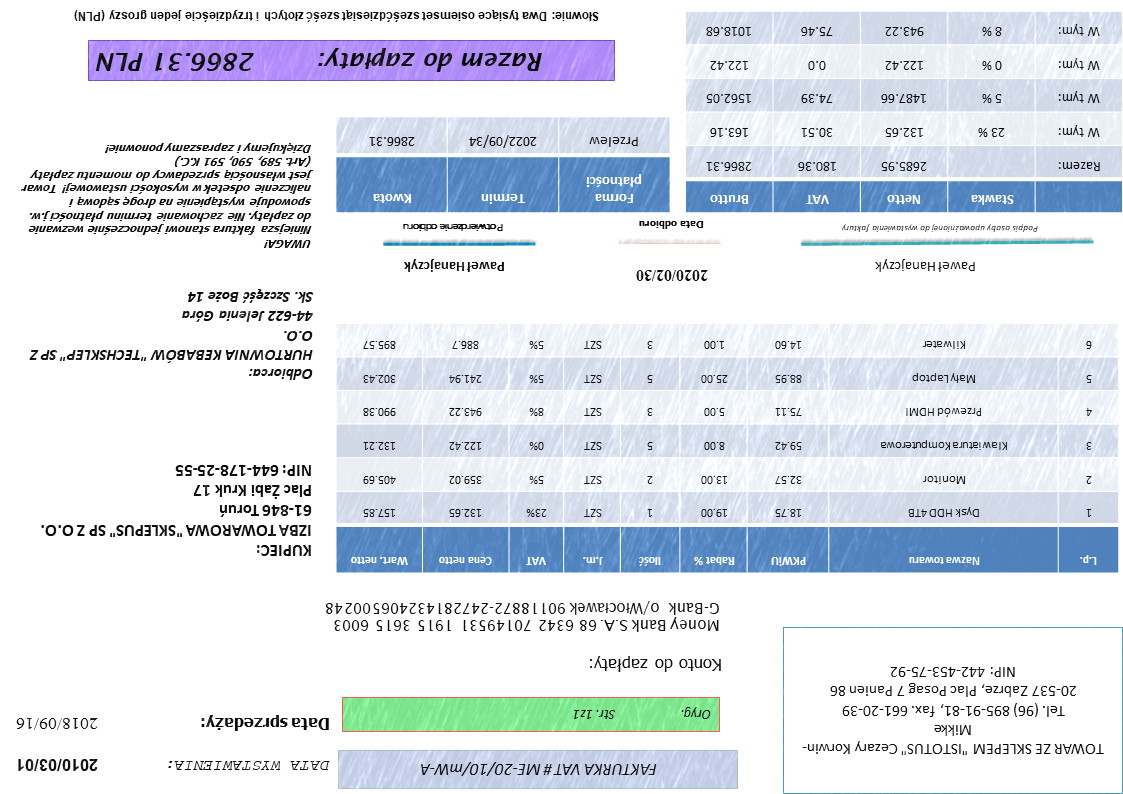Table: (335, 322, 1121, 576), (684, 10, 1122, 214), (335, 116, 671, 214)
TextBox: (16, 140, 313, 253), (801, 664, 1106, 757), (29, 287, 316, 385), (39, 461, 315, 562), (92, 44, 546, 78), (322, 600, 723, 634), (71, 5, 602, 26), (416, 759, 659, 779), (165, 755, 331, 776), (841, 221, 1042, 236), (588, 653, 725, 675), (198, 712, 332, 734), (571, 705, 713, 722), (402, 255, 508, 276), (873, 258, 979, 278), (12, 713, 100, 733), (17, 755, 102, 775), (400, 220, 507, 235), (635, 265, 710, 285), (637, 218, 707, 232)
